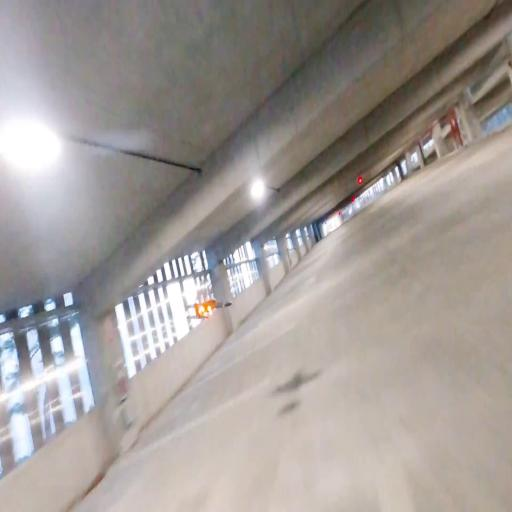uav: (184, 293, 234, 325)
